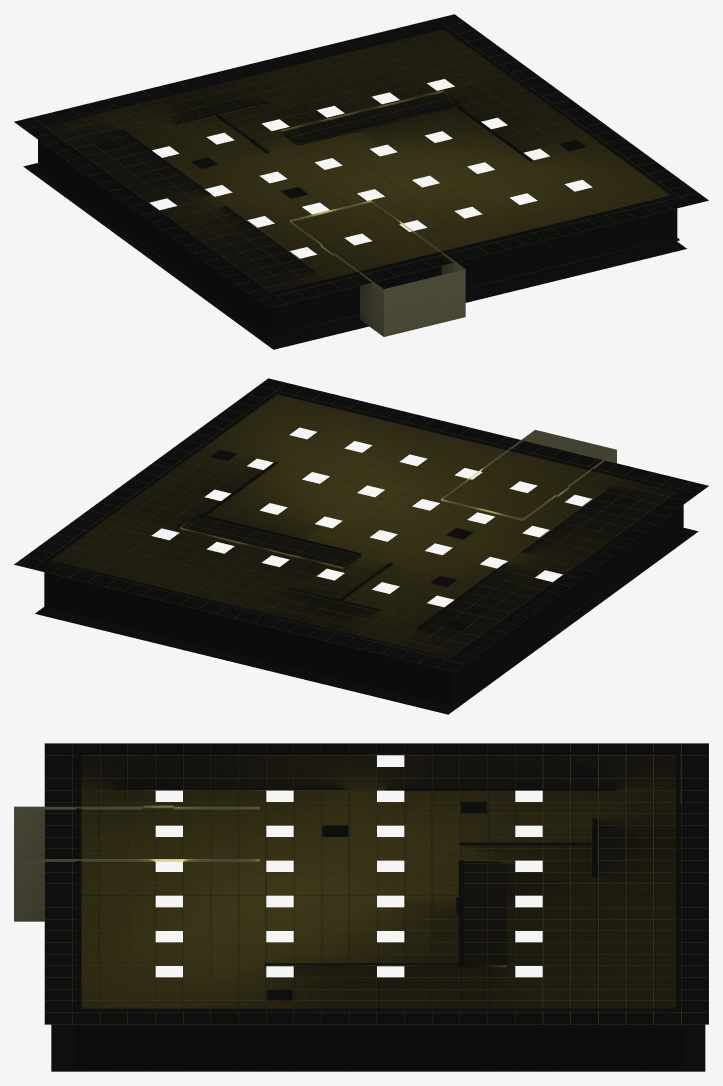
File: original__backrooms.glb
3 renders of one model, top to bottom at view 1: azimuth 30°, elevation 25°; view 2: azimuth 150°, elevation 25°; view 3: azimuth 270°, elevation 25°, orthographic. The views are drawn at different scales.
Visible parts, largest first — view 1: Ceiling_6, BackWall_Double_BR_028_3, Air_Vent_005_5, Piece1_2, Carpet_v1_001_4; view 2: Ceiling_6, BackWall_Double_BR_028_3, Air_Vent_005_5, Carpet_v1_001_4, Piece1_2; view 3: Ceiling_6, BackWall_Double_BR_028_3, Air_Vent_005_5, Piece1_2, Carpet_v1_001_4.
Boxes of the visible parts, bbox=[...] form: Ceiling_6: bbox=[14, 14, 708, 307]; BackWall_Double_BR_028_3: bbox=[37, 26, 679, 341]; Air_Vent_005_5: bbox=[15, 14, 708, 307]; Piece1_2: bbox=[289, 200, 465, 336]; Carpet_v1_001_4: bbox=[23, 163, 686, 349]; Ceiling_6: bbox=[14, 378, 708, 671]; BackWall_Double_BR_028_3: bbox=[44, 389, 686, 706]; Air_Vent_005_5: bbox=[14, 378, 708, 672]; Carpet_v1_001_4: bbox=[35, 528, 698, 714]; Piece1_2: bbox=[441, 430, 616, 520]; Ceiling_6: bbox=[45, 743, 708, 1024]; BackWall_Double_BR_028_3: bbox=[68, 751, 682, 1070]; Air_Vent_005_5: bbox=[44, 743, 708, 1024]; Piece1_2: bbox=[14, 805, 259, 921]; Carpet_v1_001_4: bbox=[51, 1024, 705, 1071].
Bounding box in the file's own units: 27.36 × 2.87 × 28.62.
7 materials, 5 textured.
